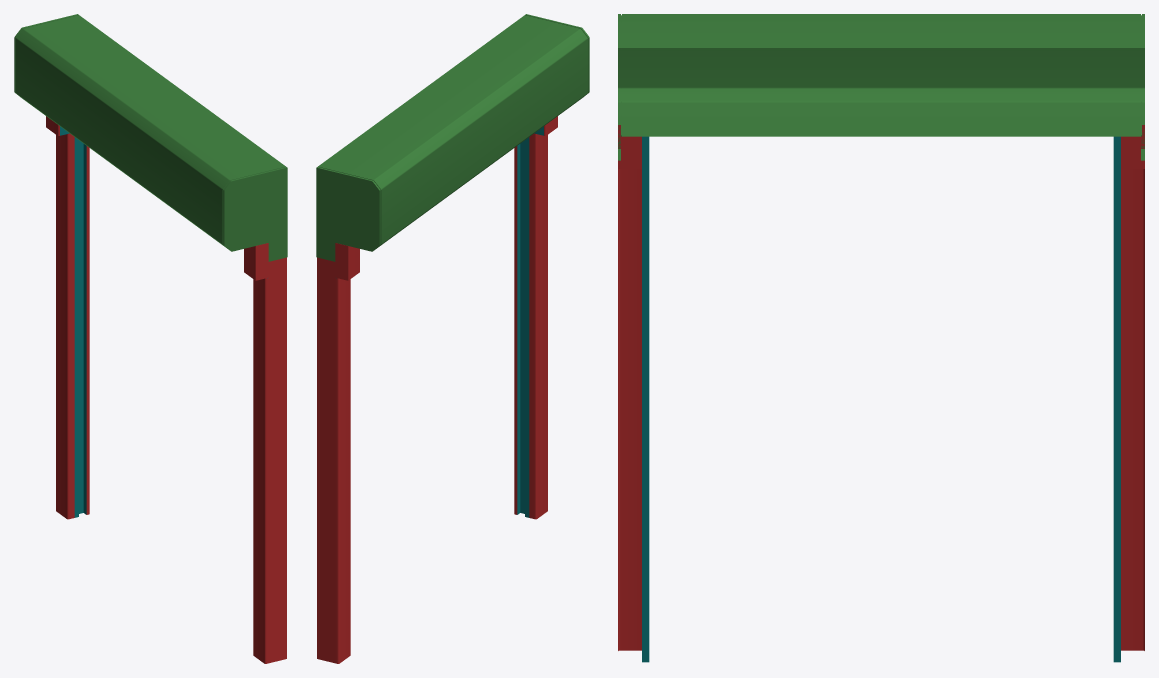
The model's file is SM_Gate_Base.fbx.
The picture shows the model from 3 angles, left to right: view 1: azimuth 30°, elevation 25°; view 2: azimuth 150°, elevation 25°; view 3: azimuth 270°, elevation 25°; orthographic projection. The views are drawn at different scales.
Visible parts, largest first — view 1: SM_Gate_Base; view 2: SM_Gate_Base; view 3: SM_Gate_Base.
Boxes of the visible parts, x1=… form: SM_Gate_Base: x1=14, y1=14, x2=287, y2=663; SM_Gate_Base: x1=316, y1=14, x2=589, y2=663; SM_Gate_Base: x1=618, y1=14, x2=1144, y2=662.
Size of the model in its own units: 34.69 by 257 by 199.
